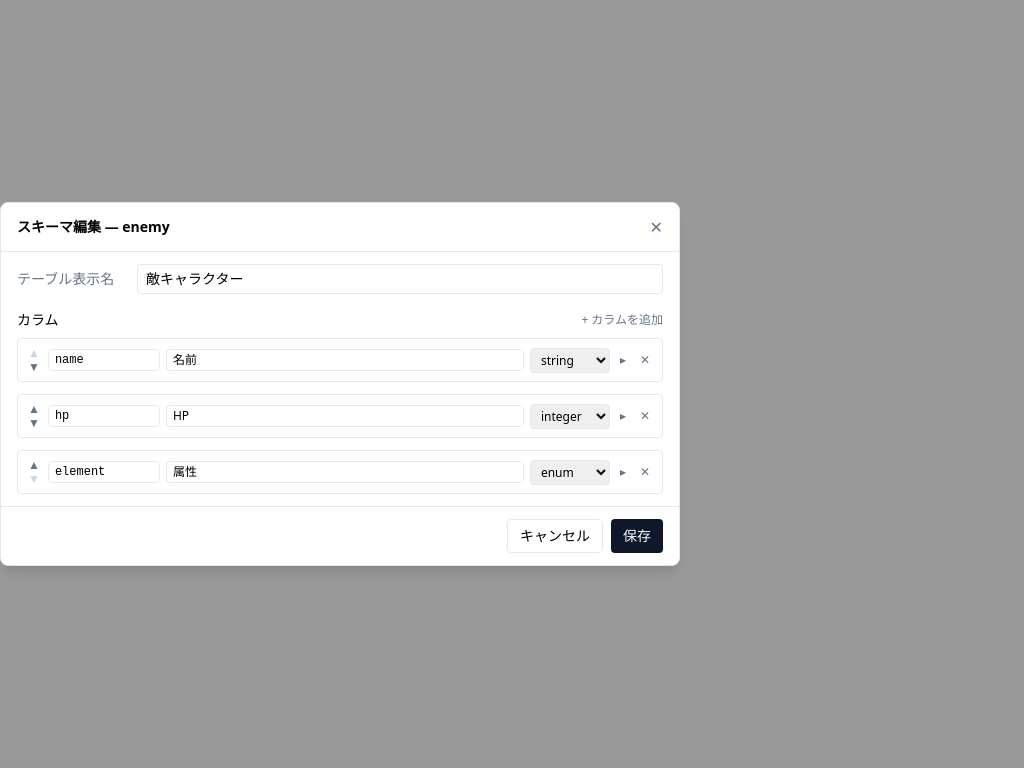
Scenario: SchemaEditorDialog › カラム追加 › + カラムを追加 をクリックすると新しい行が追加される
This screenshot has width=1024, height=768.
Click the button "+ カラムを追加" at (622, 320), box [581,312,663,328]
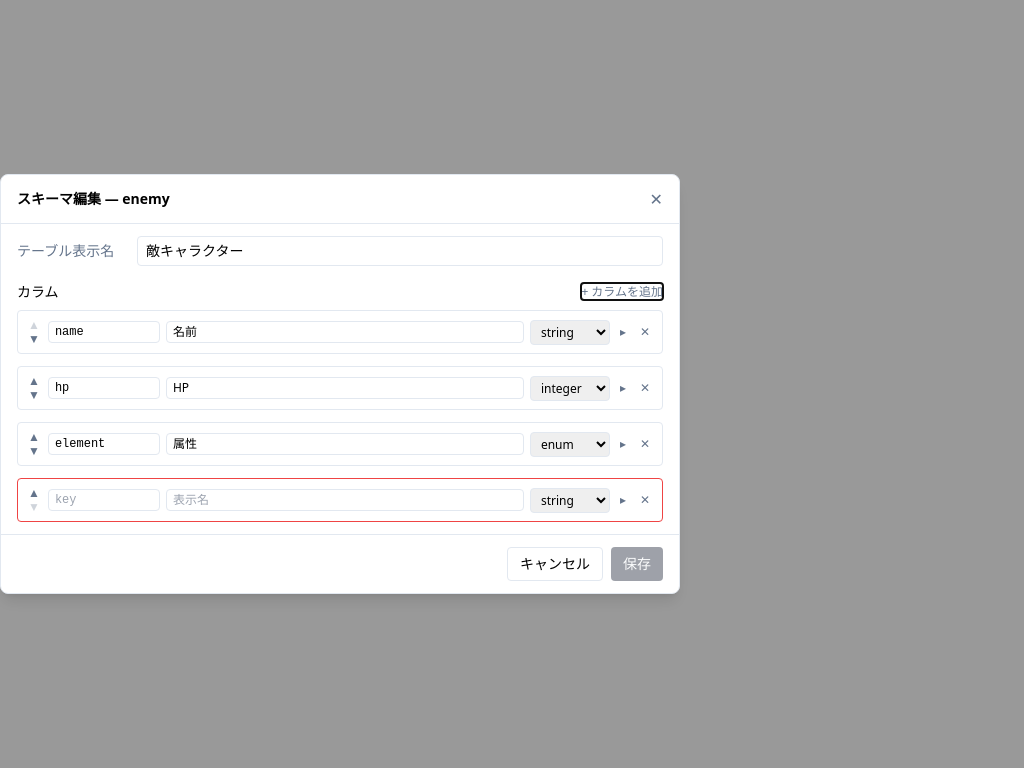
Check: the number of fields with placeholder "key" is 4, box [48,321,160,343]; [48,377,160,399]; [48,433,160,455]; [48,489,160,511]
